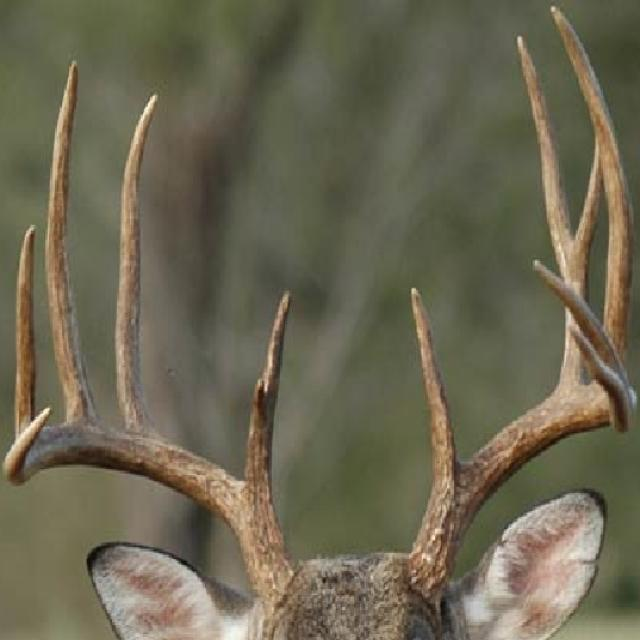L-F: (408, 326, 631, 620)
L-G1: (412, 285, 457, 482)
R-F: (2, 406, 299, 619)
R-G1: (244, 290, 292, 494)
R-G2: (113, 92, 159, 436)
R-G3: (44, 57, 102, 423)
R-G4: (13, 223, 36, 439)
